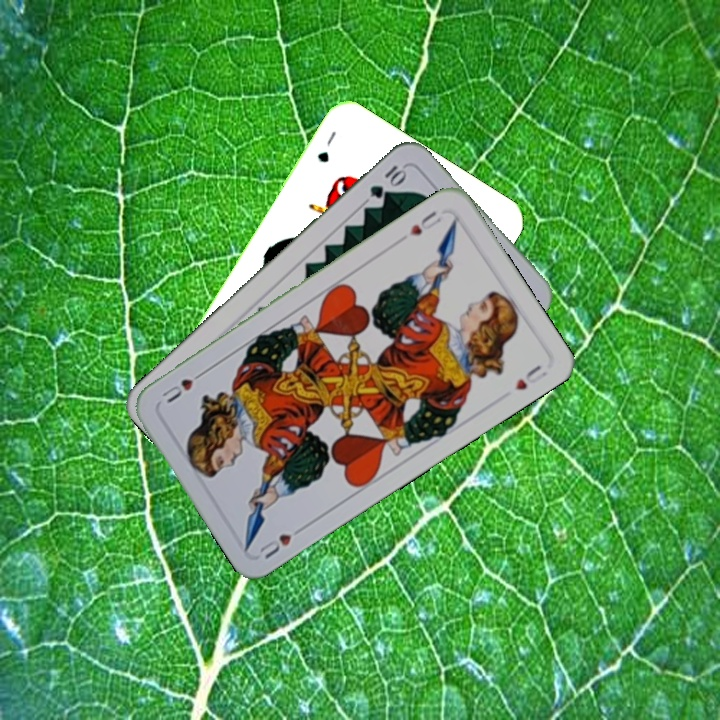G10: (365, 161, 409, 202)
GU: (313, 127, 339, 166)
HU: (255, 521, 308, 562), (405, 206, 446, 239)
